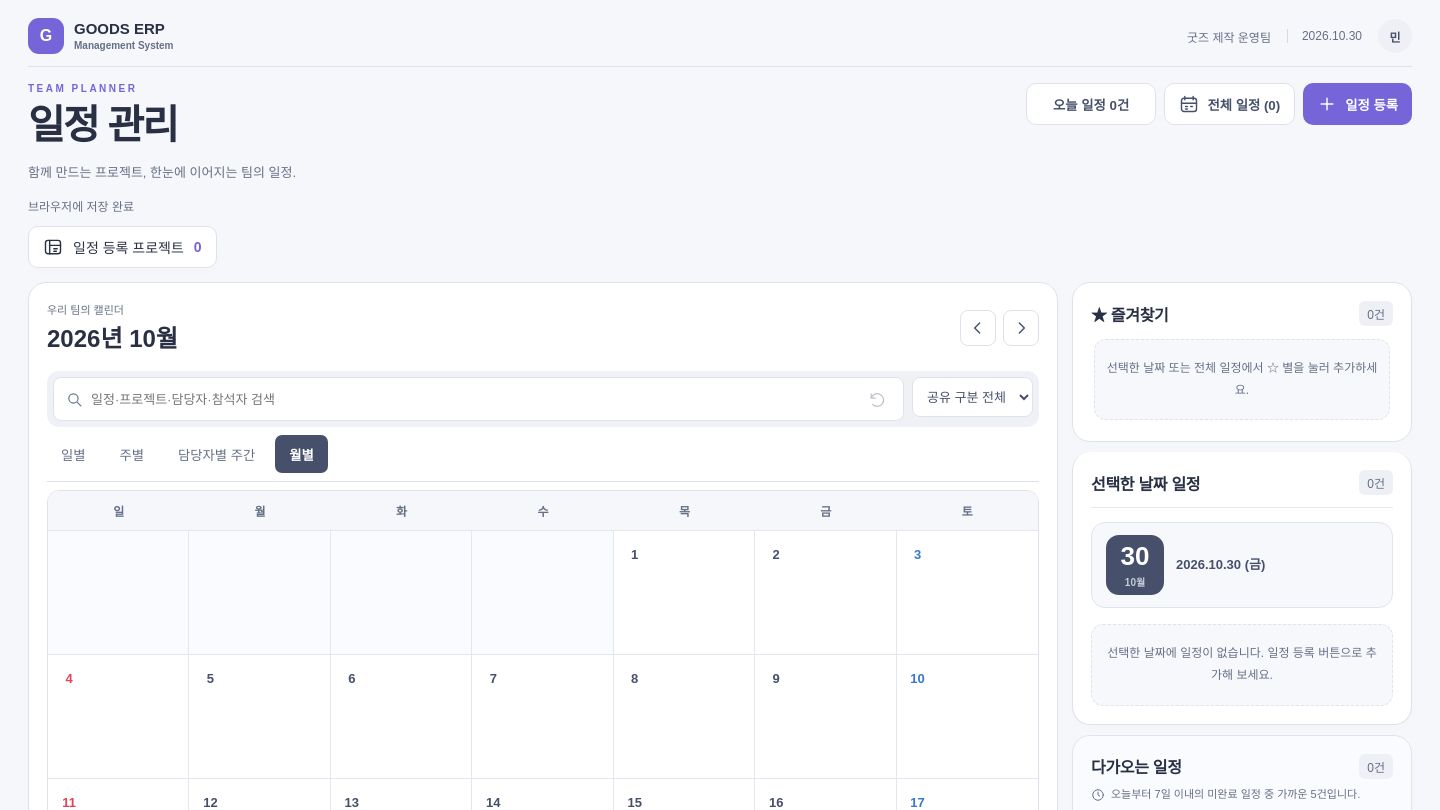
it: 프로젝트 목록의 빈 상태를 표시하고 팀원 목록 진입점은 숨긴다
Click the button with aria-label "일정 등록 프로젝트 목록 보기": (122, 247) x1=28 y1=226 x2=217 y2=268
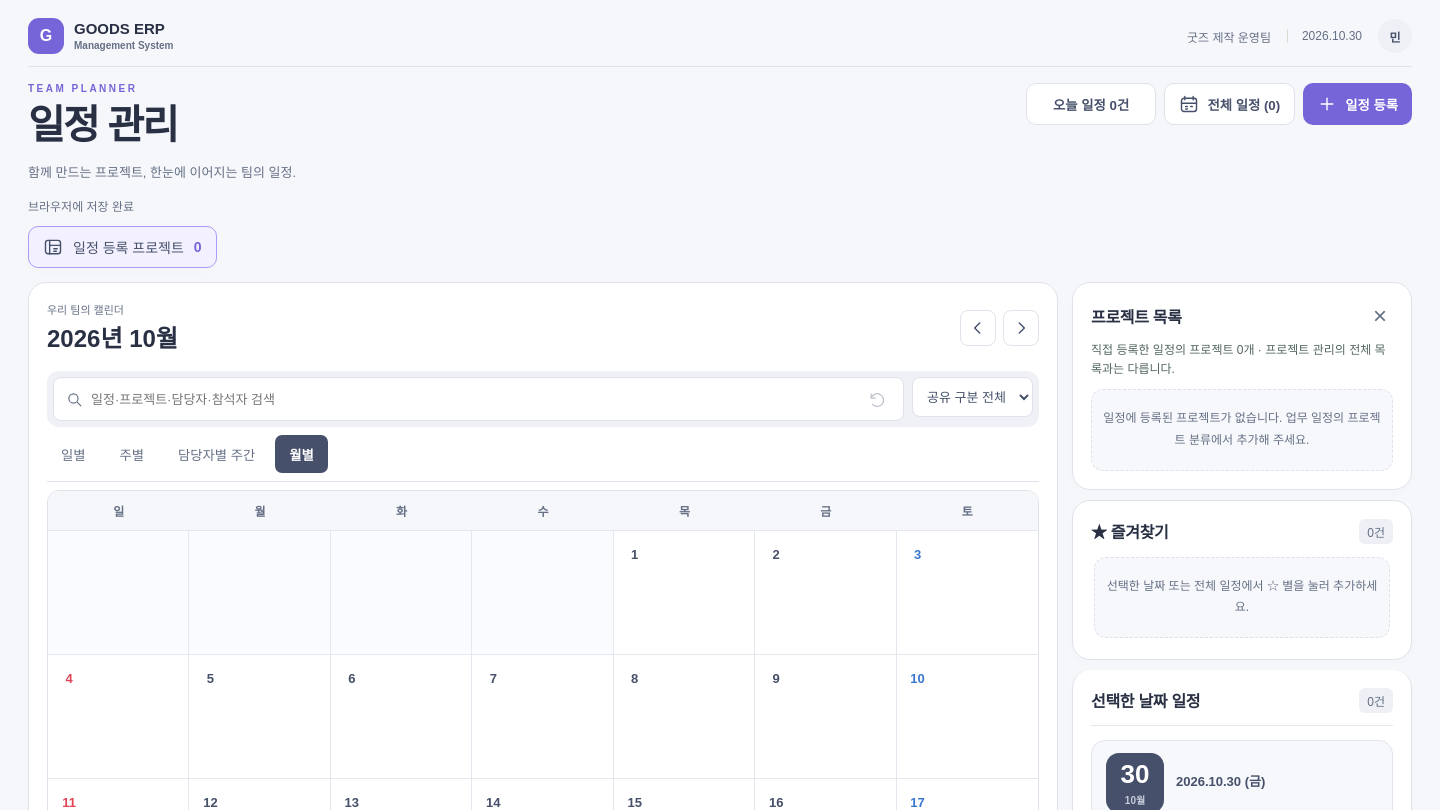
Now the text "일정에 등록된 프로젝트가 없습니다. 업무 일정의 프로젝트 분류에서 추가해 주세요." is shown, box x1=1091 y1=389 x2=1393 y2=471
